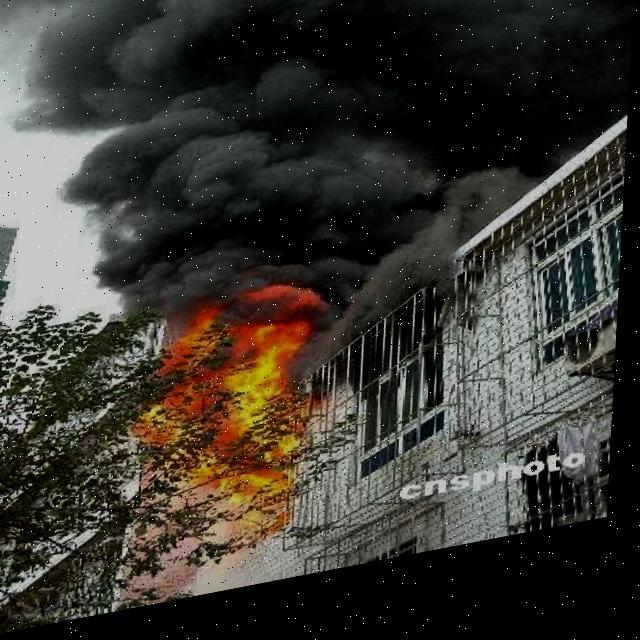Fire: (148, 288, 324, 566)
